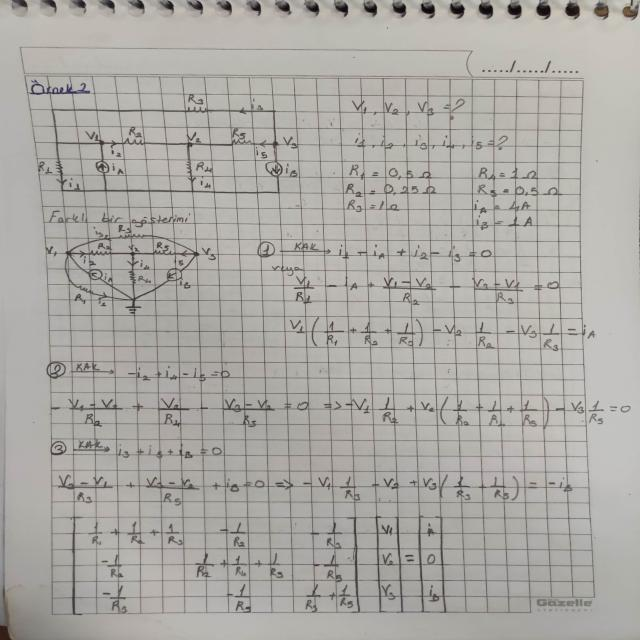image: (34, 89, 306, 194), (42, 223, 224, 318)
math: (66, 512, 454, 615), (285, 316, 600, 354), (295, 396, 637, 430), (286, 274, 567, 308), (292, 470, 579, 502), (46, 394, 283, 430), (56, 469, 271, 504), (472, 162, 566, 234), (342, 160, 445, 212), (48, 436, 231, 464), (333, 238, 500, 265), (347, 132, 518, 152), (346, 95, 471, 122), (126, 359, 237, 385)
text: (43, 208, 194, 225), (26, 78, 94, 97)
